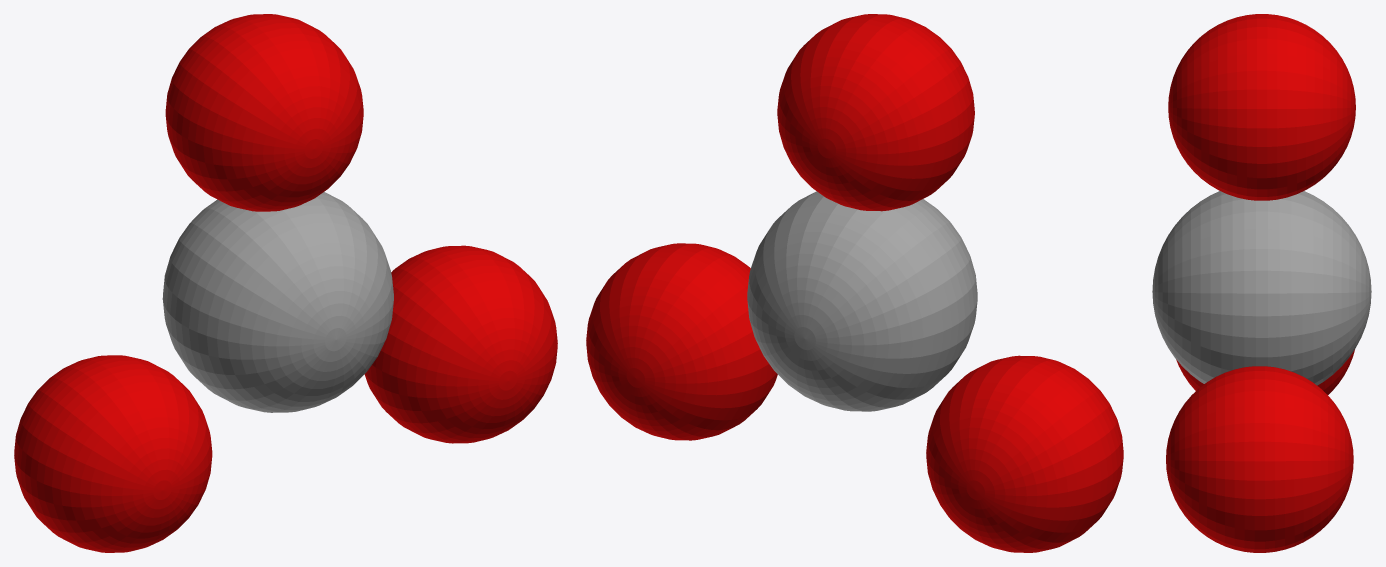
File: Calcium Carbonate.glb
The picture shows the model from 3 angles, left to right: view 1: azimuth 30°, elevation 25°; view 2: azimuth 150°, elevation 25°; view 3: azimuth 270°, elevation 25°; orthographic projection. The views are drawn at different scales.
Parts seen in each view (by area): view 1: world; view 2: world; view 3: world.
Boxes of the visible parts, x1,y1,x2,y2 form: world: (14, 14, 557, 552); world: (586, 14, 1123, 552); world: (1152, 14, 1371, 552).
Bounding box in the file's own units: 3.6 × 3.23 × 1.4.
